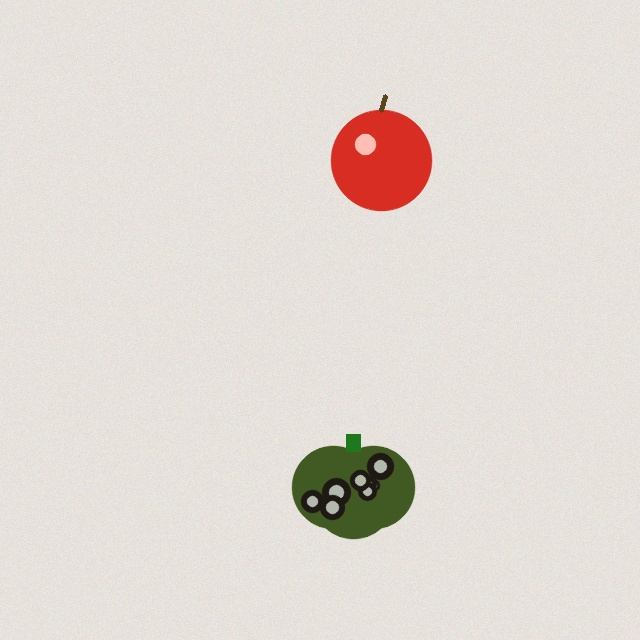Fresh apple: (331, 96, 431, 210)
Rotten bell pepper: (292, 434, 414, 538)
